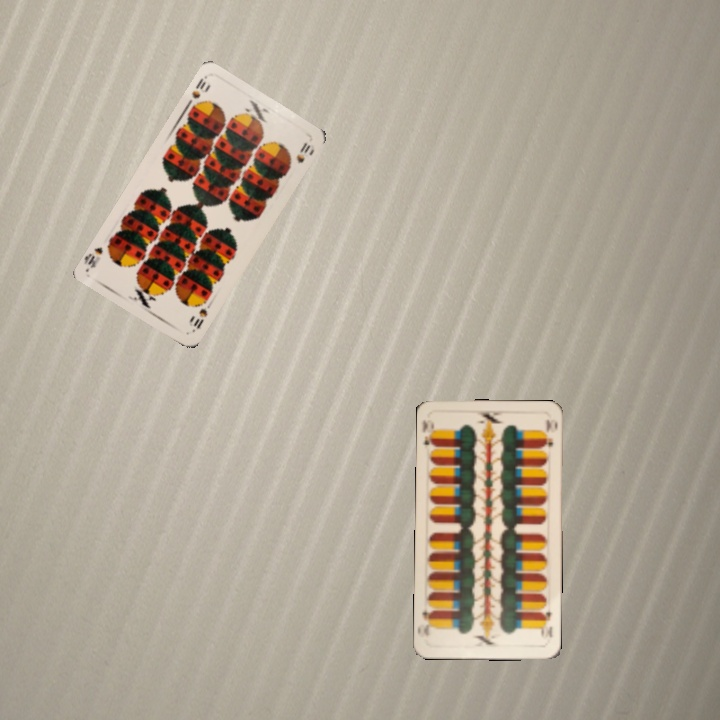E10: (419, 415, 439, 450), (537, 607, 555, 640)
S10: (183, 73, 210, 111), (189, 304, 210, 332)
